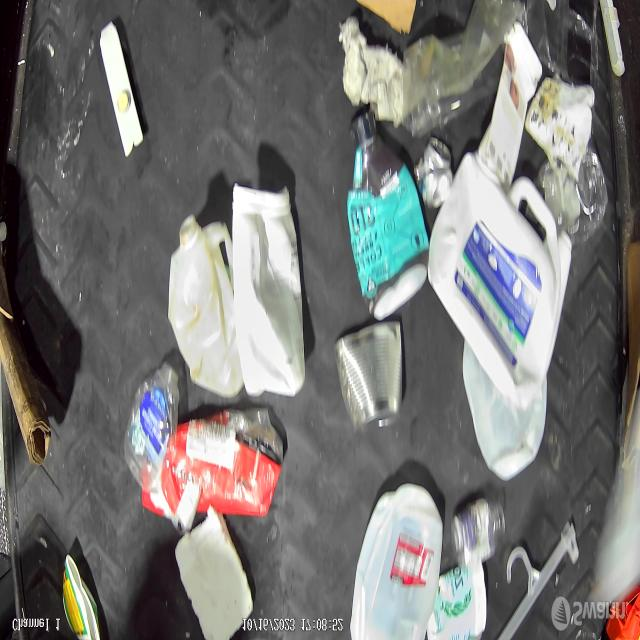can: (337, 322, 403, 432)
milk_jug: (432, 154, 562, 402), (232, 188, 306, 398), (350, 484, 444, 640), (167, 209, 238, 397), (462, 351, 548, 481)
non_white_jug: (349, 115, 430, 318)
plastic_bottle: (534, 150, 608, 248), (122, 382, 176, 492)
